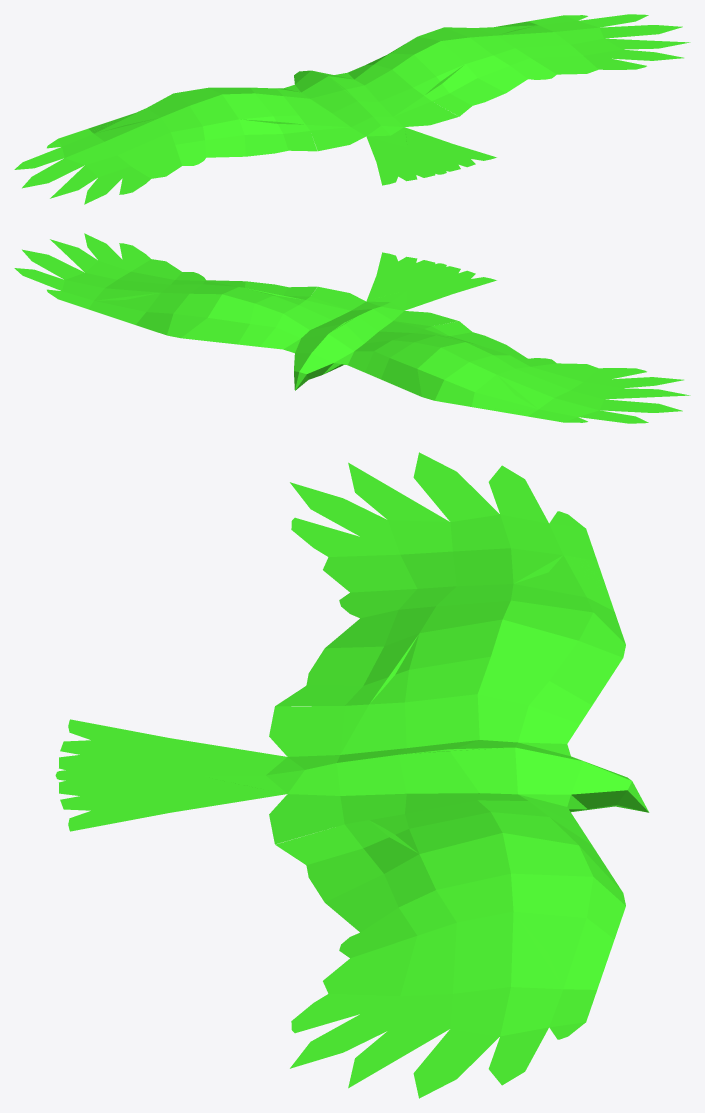
The model's file is tonbi4.fbx.
3 views of the same model, one above another, from view 1: azimuth 30°, elevation 25°; view 2: azimuth 150°, elevation 25°; view 3: azimuth 270°, elevation 25° (orthographic). The views are drawn at different scales.
Visible parts, largest first — view 1: Curve; view 2: Curve; view 3: Curve.
Part boxes in pixels (<box>): Curve: <box>14,14,690,204</box>; Curve: <box>14,233,690,423</box>; Curve: <box>55,452,649,1098</box>.
Size of the model in its own units: 868 by 2235 by 164.
